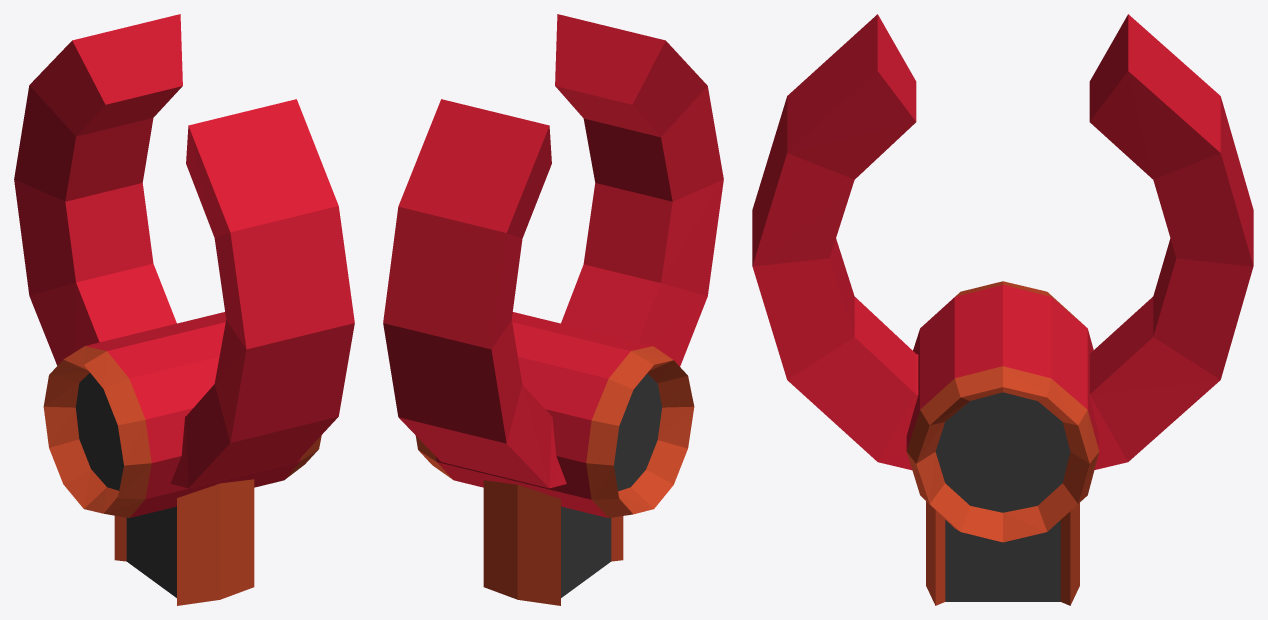
File: Head.FBX
The picture shows the model from 3 angles, left to right: view 1: azimuth 30°, elevation 25°; view 2: azimuth 150°, elevation 25°; view 3: azimuth 270°, elevation 25°; orthographic projection. The views are drawn at different scales.
Parts seen in each view (by area): view 1: VIFS002, VIFS001, VIFS003; view 2: VIFS002, VIFS001, VIFS003; view 3: VIFS002, VIFS003, VIFS001.
Boxes of the visible parts, x1,y1,x2,y2 form: VIFS002: [14, 14, 354, 517]; VIFS001: [43, 346, 321, 605]; VIFS003: [75, 373, 176, 597]; VIFS002: [383, 14, 723, 517]; VIFS001: [416, 346, 694, 605]; VIFS003: [561, 373, 662, 597]; VIFS002: [752, 14, 1253, 470]; VIFS003: [935, 392, 1070, 601]; VIFS001: [906, 281, 1099, 605].
Size of the model in its own units: 0.13 by 0.311 by 0.26.
